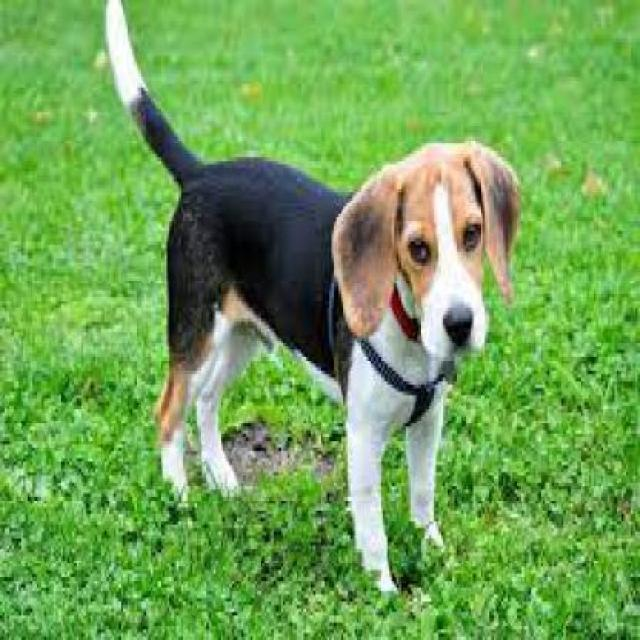Dog: (103, 0, 526, 609)
